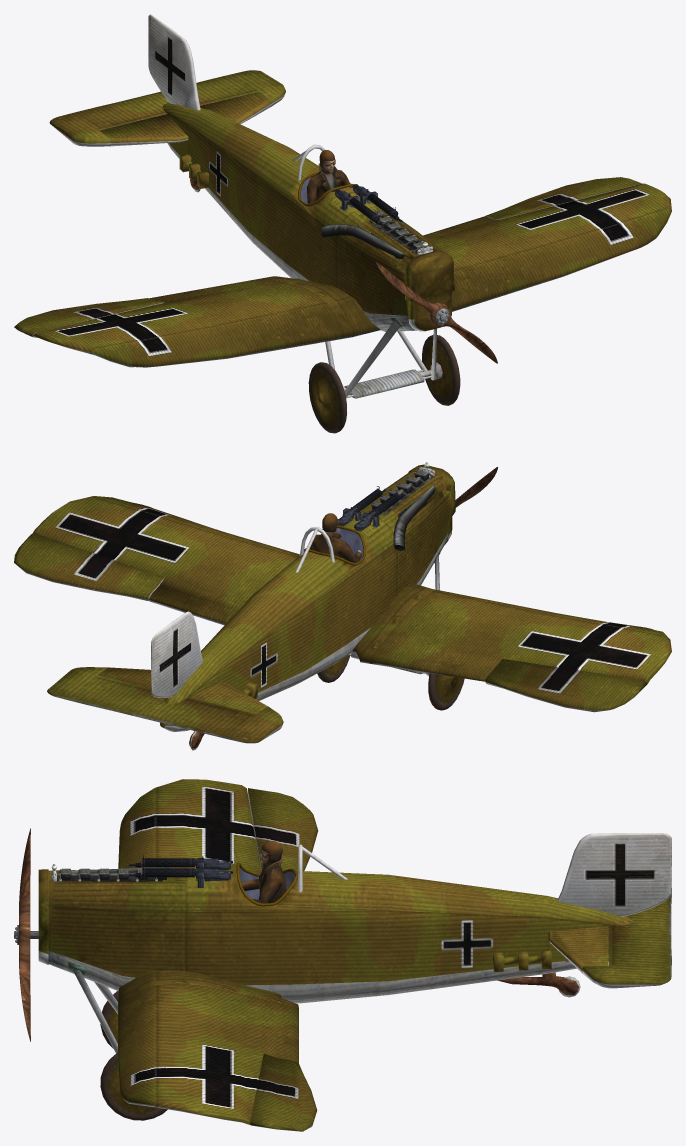
Rendered from junkers_d1.glb.
3 renders of one model, top to bottom at view 1: azimuth 30°, elevation 25°; view 2: azimuth 150°, elevation 25°; view 3: azimuth 270°, elevation 25°, orthographic. The views are drawn at different scales.
Visible parts, largest first — view 1: junkers_d1; view 2: junkers_d1; view 3: junkers_d1.
Part boxes in pixels (<box>): junkers_d1: <box>14,14,671,433</box>; junkers_d1: <box>14,462,671,750</box>; junkers_d1: <box>14,779,671,1131</box>.
Bounding box in the file's own units: 1 × 0.3574 × 0.8281.
3 materials, 3 textured.
